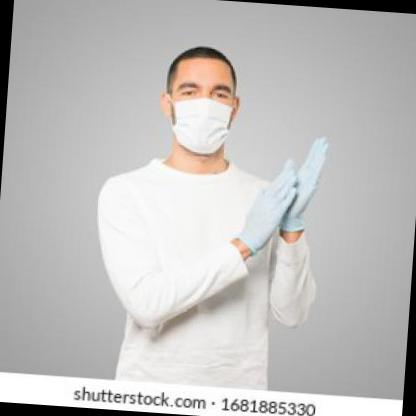Gloves: (236, 154, 298, 260), (277, 132, 328, 232)
